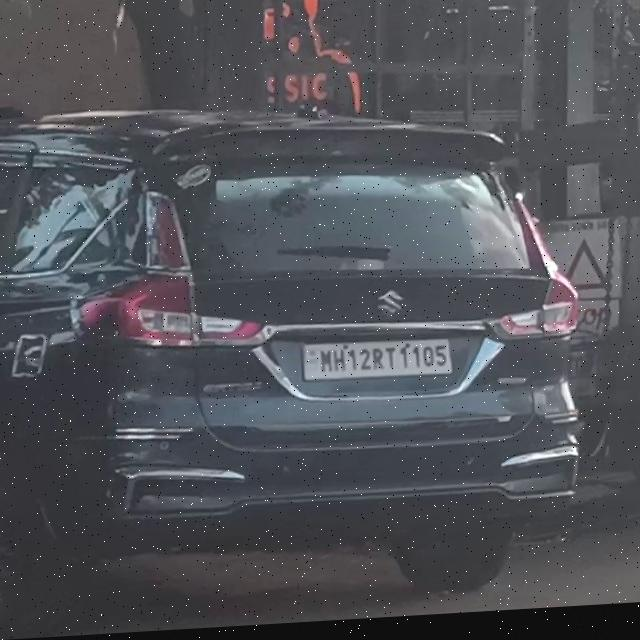plate: (303, 338, 455, 387)
